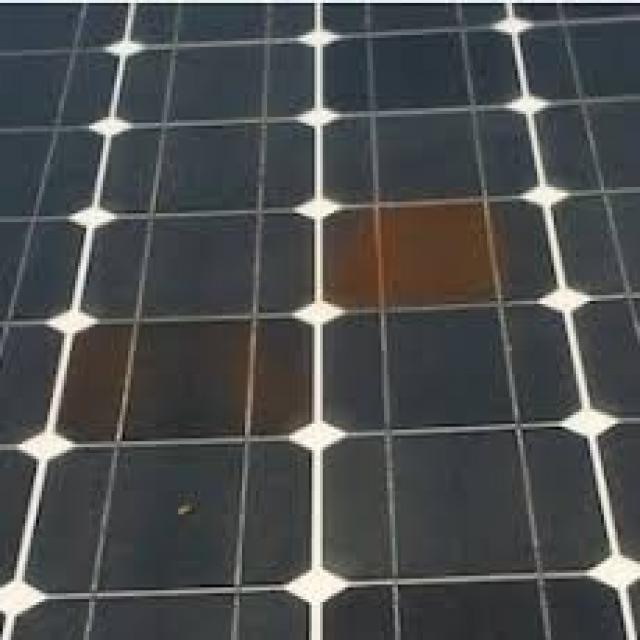faulty: (1, 5, 640, 612)
